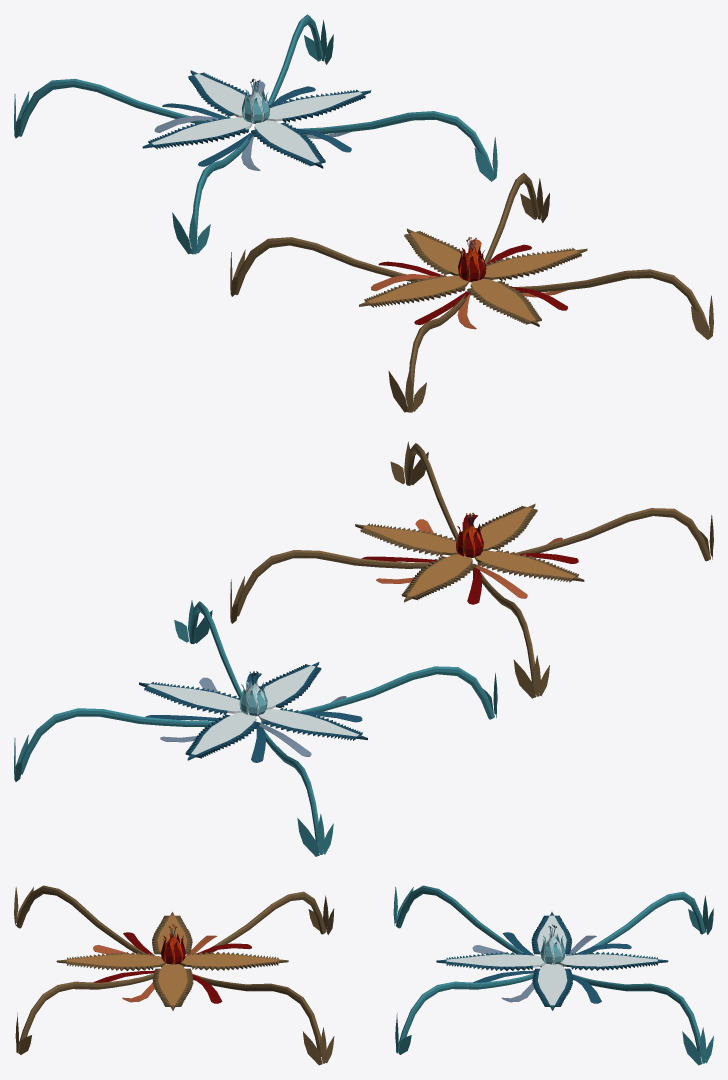
Rendered from Planta_Carnivora_Estações.fbx.
3 renders of one model, top to bottom at view 1: azimuth 30°, elevation 25°; view 2: azimuth 150°, elevation 25°; view 3: azimuth 270°, elevation 25°, orthographic. The views are drawn at different scales.
Parts seen in each view (by area): view 1: Petala_3 (×2), Petala_4 (×2), Petala_2 (×2), pCube7 (×2), pCube9 (×2), Petala_1 (×2), pCube8 (×2), pCube10 (×2), polySurface43 (×2); view 2: Petala_1 (×2), Petala_4 (×2), Petala_2 (×2), pCube10 (×2), pCube8 (×2), Petala_3 (×2), pCube9 (×2), pCube7 (×2), polySurface44 (×2); view 3: Petala_3 (×2), Petala_2 (×2), Petala_1 (×2), pCube10 (×2), pCube9 (×2), pCube8 (×2), pCube7 (×2), Petala_4 (×2), polySurface45 (×2), polySurface44 (×2).
Part boxes in pixels (box(x1,y1,x2,y2)): Petala_3 (×2): box(251, 120, 541, 326); Petala_4 (×2): box(142, 116, 468, 307); Petala_2 (×2): box(267, 89, 587, 280); pCube7 (×2): box(19, 78, 465, 294); pCube9 (×2): box(299, 111, 710, 332); Petala_1 (×2): box(188, 70, 466, 275); pCube8 (×2): box(267, 14, 539, 263); pCube10 (×2): box(191, 133, 470, 412); polySurface43 (×2): box(172, 212, 426, 412); Petala_1 (×2): box(185, 554, 476, 760); Petala_4 (×2): box(258, 549, 584, 740); Petala_2 (×2): box(139, 523, 458, 714); pCube10 (×2): box(261, 508, 710, 723); pCube8 (×2): box(20, 550, 431, 774); Petala_3 (×2): box(258, 503, 537, 709); pCube9 (×2): box(189, 443, 458, 697); pCube7 (×2): box(264, 563, 535, 852); polySurface44 (×2): box(297, 655, 549, 856); Petala_3 (×2): box(56, 952, 545, 970); Petala_2 (×2): box(152, 963, 572, 1010); Petala_1 (×2): box(180, 952, 668, 970); pCube10 (×2): box(16, 885, 545, 967); pCube9 (×2): box(18, 973, 533, 1051); pCube8 (×2): box(192, 974, 700, 1056); pCube7 (×2): box(180, 891, 705, 966); Petala_4 (×2): box(152, 912, 572, 955); polySurface45 (×2): box(302, 1027, 713, 1065); polySurface44 (×2): box(308, 895, 713, 934).
Bounding box in the file's own units: 15.67 × 3.86 × 33.49.
